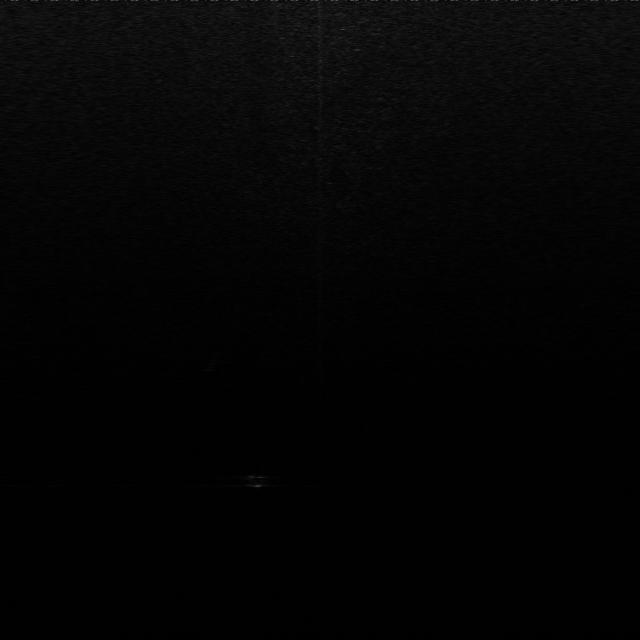ball: (238, 469, 273, 493)
